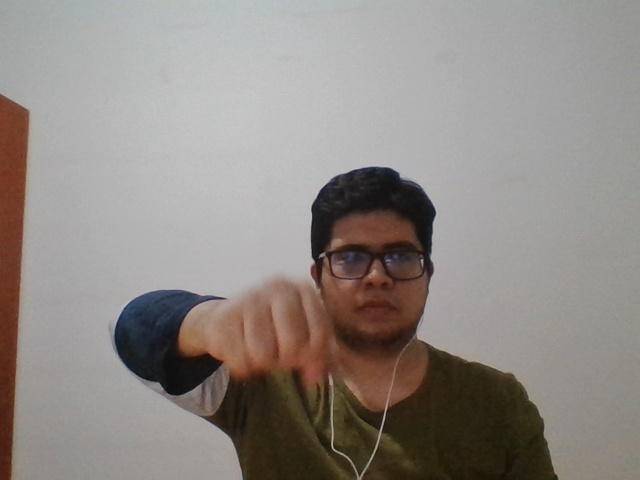Yes: (208, 270, 339, 386)
